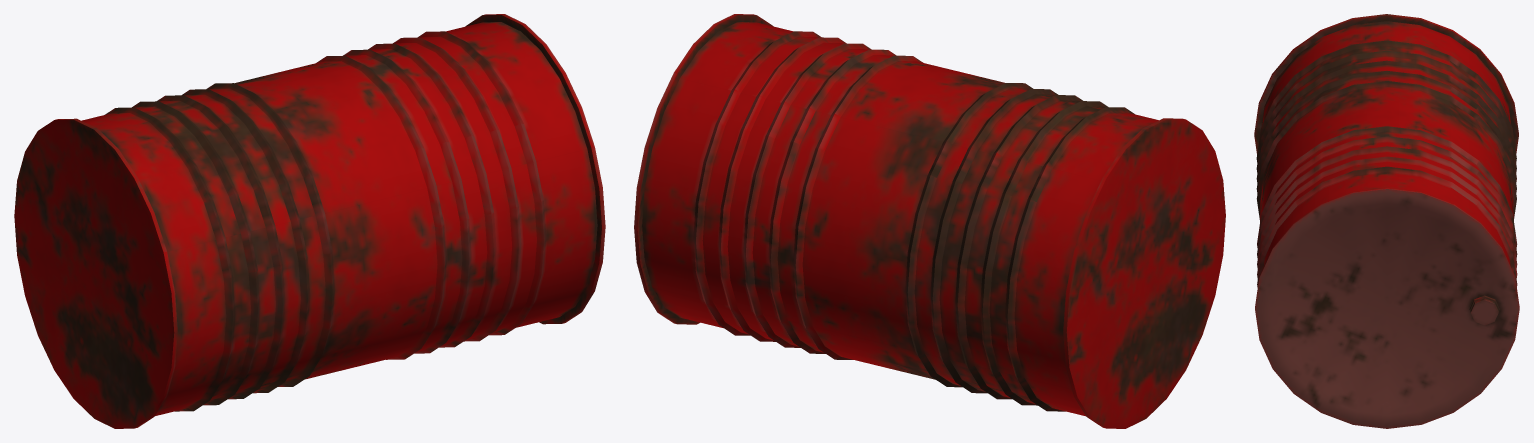
Rendered from barrel_hor.obj.
3 renders of one model, left to right at view 1: azimuth 30°, elevation 25°; view 2: azimuth 150°, elevation 25°; view 3: azimuth 270°, elevation 25°, orthographic. The views are drawn at different scales.
Parts seen in each view (by area): view 1: Barrel_02_Mesh.030; view 2: Barrel_02_Mesh.030; view 3: Barrel_02_Mesh.030.
Boxes of the visible parts, x1,y1,x2,y2 form: Barrel_02_Mesh.030: (14,14,605,428); Barrel_02_Mesh.030: (634,14,1225,428); Barrel_02_Mesh.030: (1254,14,1519,428).
Size of the model in its own units: 1.15 by 0.722 by 0.7238.
1 material, 1 textured.
